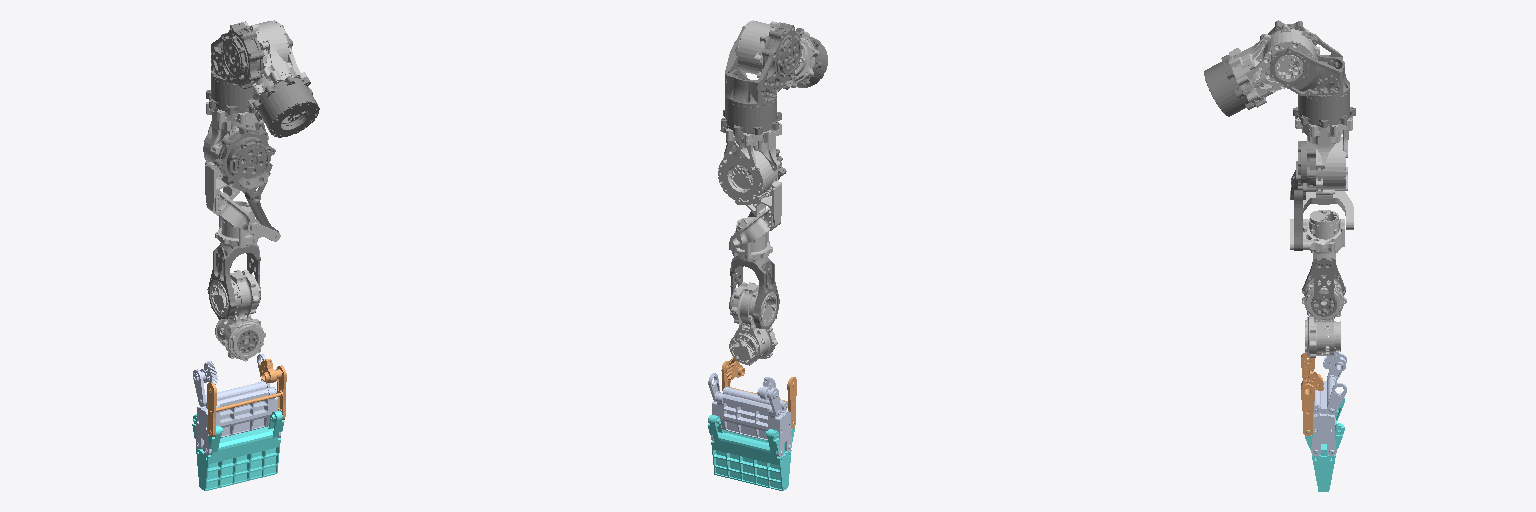
--- Facts derived from the render (not from the file) ---
Views: 3 orthographic renders of the robot side by side, from view 1: azimuth 30°, elevation 25°; view 2: azimuth 150°, elevation 25°; view 3: azimuth 270°, elevation 25°.
Robot: raipal_end-effector_L — 23 links, 22 joints (18 revolute, 4 fixed); root link world; default pose: all joints at 0.
Visible links, largest first — view 1: ee_4_left, L_shoulder, L_humerus, L_elb_input, L_carpal, L_base, ee_3_left, L_collar, L_radius, ee_2_left, L_ulna, ee_1_right (+1 smaller); view 2: L_shoulder, L_humerus, ee_4_right, L_carpal, ee_3_right, L_collar, L_radius, L_ulna, ee_2_left, ee_1_right, L_base, ee_3_left; view 3: L_shoulder, L_collar, L_humerus, L_carpal, L_ulna, L_base, L_radius, ee_2_left, L_elb_input, ee_1_right, ee_3_right, ee_3_left (+2 smaller).
Boxes of the visible links, x1=… form: ee_4_left: x1=202, y1=410, x2=284, y2=490; L_shoulder: x1=206, y1=23, x2=292, y2=114; L_humerus: x1=203, y1=102, x2=268, y2=233; L_elb_input: x1=214, y1=127, x2=275, y2=202; L_carpal: x1=211, y1=270, x2=265, y2=361; L_base: x1=252, y1=76, x2=319, y2=137; ee_3_left: x1=202, y1=387, x2=280, y2=455; L_collar: x1=241, y1=20, x2=306, y2=109; L_radius: x1=207, y1=243, x2=260, y2=319; ee_2_left: x1=207, y1=359, x2=286, y2=437; L_ulna: x1=215, y1=201, x2=280, y2=248; ee_1_right: x1=193, y1=354, x2=269, y2=406; L_shoulder: x1=721, y1=23, x2=802, y2=134; L_humerus: x1=718, y1=123, x2=781, y2=247; ee_4_right: x1=708, y1=415, x2=785, y2=490; L_carpal: x1=729, y1=282, x2=777, y2=365; ee_3_right: x1=711, y1=393, x2=785, y2=456; L_collar: x1=737, y1=20, x2=818, y2=87; L_radius: x1=729, y1=257, x2=779, y2=328; L_ulna: x1=729, y1=217, x2=772, y2=261; ee_2_left: x1=721, y1=357, x2=796, y2=428; ee_1_right: x1=708, y1=373, x2=781, y2=416; L_base: x1=782, y1=28, x2=827, y2=89; ee_3_left: x1=723, y1=387, x2=791, y2=451; L_shoulder: x1=1260, y1=20, x2=1355, y2=127; L_collar: x1=1229, y1=24, x2=1319, y2=107; L_humerus: x1=1295, y1=116, x2=1353, y2=229; L_carpal: x1=1302, y1=275, x2=1346, y2=357; L_ulna: x1=1290, y1=210, x2=1344, y2=253; L_base: x1=1204, y1=55, x2=1255, y2=116; L_radius: x1=1302, y1=253, x2=1345, y2=316; ee_2_left: x1=1301, y1=353, x2=1323, y2=435; L_elb_input: x1=1290, y1=136, x2=1315, y2=199; ee_1_right: x1=1323, y1=351, x2=1346, y2=414; ee_3_right: x1=1324, y1=376, x2=1336, y2=455; ee_3_left: x1=1311, y1=390, x2=1323, y2=455.
Size in the robot's own frame: 0.1378 by 0.2589 by 0.8421 metres.
Meshes: 19 distinct files referenced, 16 mesh visuals loaded (10 binary STL, 6 OBJ); not drawn: 3 (reference not matched to a file when rendering).

URDF robot description (raipal_end-effector_L):
<?xml version="1.0" encoding="utf-8"?>
<robot name="raipal_end-effector_L">
  <!-- [URDF-WRITER] Created with urdf-writer script (by CHH) on 2026-01-27 21:55:36.760644-->

  <!-- [URDF-WRITER] from module [_fixed-base] -->

  <!-- this link makes the robot fixed-base in RAISIM -->
  <link name="world"></link>

  <link name="base"></link>

  <joint name="base_fix" type="fixed">
    <origin xyz="0 0 0.8" rpy="0 0 0"/>
    <parent link="world" />
    <child link="base" />
    <axis xyz="0 0 0" />
  </joint>


  <!-- [URDF-WRITER] from module [raipal_L] -->

  <link name="L_base">
    <!-- CHH / 2025-09-01-20:14 -->
    <!-- mirrored from [L_base] (frame: R0_base)-->
    <inertial>
      <origin 
        xyz="-0.00013000 0.06389000 -0.05559000"
        rpy="0 0 0" />
      <mass value="0.79658000" />
      <inertia
          ixx="0.00074742"
          ixy="-1.892780e-6"
          ixz="-1.179560e-6"
          iyy="0.00098187"
          iyz="0.00013334"
          izz="0.00082394" />
    </inertial>
    <visual>
      <origin
        xyz="0 0 0"
        rpy="0 0 0" />
      <geometry>
        <mesh filename="../meshes/L_base.STL" />
      </geometry>
      <material name="">
        <color rgba=".6 .6 .6 1" />
      </material>
    </visual>
    <!--</collision>
      <origin
        xyz="0 0 0"
        rpy="0 0 0" />
      <geometry>
        <mesh filename="../meshes/L_base.STL" />
      </geometry>
    </collision>-->
  </link>

  <joint name="L_fix" type="fixed">
    <origin xyz="0 0 0" rpy="0 0 0"/>
    <parent link="base" />
    <child link="L_base" />
    <axis xyz="0 0 0" />
  </joint>

  <link name="L_collar">
    <!-- CHH / 2025-09-01-20:14 -->
    <!-- mirrored from [L_collar] (frame: R1_flexion)-->
    <inertial>
      <origin 
        xyz="0.00471000 1.000000e-5 0.10057000"
        rpy="0 0 0" />
      <mass value="1.72283000" />
      <inertia
          ixx="0.00466072"
          ixy="-5.127800e-7"
          ixz="-0.00028338"
          iyy="0.00434837"
          iyz="-8.010400e-7"
          izz="0.00167296" />
    </inertial>
    <visual>
      <origin
        xyz="0 0 0"
        rpy="0 0 0" />
      <geometry>
        <mesh filename="../meshes/L_collar.STL" />
      </geometry>
      <material name="">
        <color rgba="0.8 0.8 0.8 1" />
      </material>
    </visual>
    <!--</collision>
      <origin
        xyz="0 0 0"
        rpy="0 0 0" />
      <geometry>
        <mesh filename="../meshes/L_collar.STL" />
      </geometry>
    </collision>-->
  </link>

  <joint name="L1_flexion" type="revolute"> <!--[0]-->
    <origin
      xyz="0 0.037198 -0.0709"
      rpy="-1.0472 0 0" />
    <parent link="L_base" />
    <child link="L_collar" />
    <axis
      xyz="0 0 -1" />
    <limit
      lower="-1.57"
      upper="3.14"
      effort="181"
      velocity="13.9" />
    <dynamics rotor_inertia = "0.0576402034658611" />
    <!-- Calculated by CHH on 2025-09-01-20:14-->  
  </joint>

  <link name="L_shoulder">
    <!-- CHH / 2025-09-01-20:14 -->
    <!-- mirrored from [L_shoulder] (frame: R2_adduction)-->
    <inertial>
      <origin 
        xyz="-0.03309000 -0.04277000 0.04408000"
        rpy="0 0 0" />
      <mass value="1.92988000" />
      <inertia
          ixx="0.00554587"
          ixy="-0.00224326"
          ixz="-0.00046924"
          iyy="0.00422168"
          iyz="-0.00058524"
          izz="0.00699049" />
    </inertial>
    <visual>
      <origin
        xyz="0 0 0"
        rpy="0 0 0" />
      <geometry>
        <mesh filename="../meshes/L_shoulder.STL" />
      </geometry>
      <material name="">
        <color rgba="0.6 0.6 0.6 1" />
      </material>
    </visual>
    <!--</collision>
      <origin
        xyz="0 0 0"
        rpy="0 0 0" />
      <geometry>
        <mesh filename="../meshes/L_shoulder.STL" />
      </geometry>
    </collision>-->
  </link>

  <joint name="L2_adduction" type="revolute"> <!--[1]-->
    <origin
      xyz="0.0373 0 0.1418"
      rpy="1.5707963267949 1.0472 -1.5707963267949" />
    <parent link="L_collar" />
    <child link="L_shoulder" />
    <axis
      xyz="0 0 1" />
    <limit
      lower="-2.618"
      upper="0.488"
      effort="181"
      velocity="13.9" />
    <dynamics rotor_inertia = "0.0576402034658611" /> <!-- CHH / 2025-09-01-20:30-->
  </joint>

  <link name="L_humerus">
    <!-- CHH / 2025-09-01-20:14 -->
    <!-- mirrored from [L_humerus] (frame: R3_rotation)-->
    <inertial>
      <origin 
        xyz="-0.00369000 -0.00351000 0.11625000"
        rpy="0 0 0" />
      <mass value="1.96262000" />
      <inertia
          ixx="0.00777442"
          ixy="1.197057e-5"
          ixz="0.00065917"
          iyy="0.00822155"
          iyz="0.00015972"
          izz="0.00201683" />
    </inertial>
    <visual>
      <origin
        xyz="0 0 0"
        rpy="0 0 0" />
      <geometry>
        <mesh filename="../meshes/L_humerus.STL" />
      </geometry>
      <material name="">
        <color rgba="0.8 0.8 0.8 1" />
      </material>
    </visual>
    <!--</collision>
      <origin
        xyz="0 0 0"
        rpy="0 0 0" />
      <geometry>
        <mesh filename="../meshes/L_humerus.STL" />
      </geometry>
    </collision>-->
  </link>

  <joint name="L3_rotation" type="revolute"> <!--[2]-->
    <origin
      xyz="-0.06 -0.06025 0.0373"
      rpy="1.5707963267949 1.5707963267949 0" />
    <parent link="L_shoulder" />
    <child link="L_humerus" />
    <axis
      xyz="0 0 1" />
    <limit
      lower="-3.14"
      upper="3.14"
      effort="181"
      velocity="13.9" />
    <dynamics rotor_inertia = "0.0576402034658611" /> <!-- CHH / 2025-09-01-20:30-->
  </joint>

  <link name="L_elb_input">
    <!-- CHH / 2025-09-01-20:14 -->
    <!-- mirrored from [L_elb_input] (frame: R4a_elbow_power)-->
    <inertial>
      <origin 
        xyz="-2.000000e-5 -0.00335000 0.05897000"
        rpy="0 0 0" />
      <mass value="0.83412000" />
      <inertia
          ixx="0.00071114"
          ixy="-7.660000e-7"
          ixz="-9.255500e-7"
          iyy="0.00059983"
          iyz="5.504818e-5"
          izz="0.00080767" />
    </inertial>
    <visual>
      <origin
        xyz="0 0 0"
        rpy="0 0 0" />
      <geometry>
        <mesh filename="../meshes/L_elb_input.STL" />
      </geometry>
      <material name="">
        <color rgba="0.6 0.6 0.6 1" />
      </material>
    </visual>
    <!--</collision>
      <origin
        xyz="0 0 0"
        rpy="0 0 0" />
      <geometry>
        <mesh filename="../meshes/L_elb_input.STL" />
      </geometry>
    </collision>-->
  </link>

  <joint name="L4a_elbow_power" type="revolute"> <!--[3]-->
    <origin
      xyz="0 -0.0373 0.1418"
      rpy="-1.5707963267949 0 0" />
    <parent link="L_humerus" />
    <child link="L_elb_input" />
    <axis
      xyz="0 0 -1" />
    <limit
      lower="0"
      upper="1.556"
      effort="181"
      velocity="13.9" />
    <dynamics rotor_inertia = "0.0576402034658611" /> <!-- CHH / 2025-09-01-20:30-->
  </joint>

  <link name="L_elb_bar">
    <!-- CHH / 2025-09-01-20:14 -->
    <!-- mirrored from [L_elb_bar] (frame: R4b_elbow_bar_input)-->
    <inertial>
      <origin 
        xyz="0.04274000 -0.00159000 -4.000000e-5"
        rpy="0 0 0" />
      <mass value="0.05314000" />
      <inertia
          ixx="2.335610e-6"
          ixy="0.0"
          ixz="0.0"
          iyy="6.149582e-5"
          iyz="3.110000e-9"
          izz="6.199993e-5" />
    </inertial>
    <visual>
      <origin
        xyz="0 0 0"
        rpy="0 0 0" />
      <geometry>
        <mesh filename="../meshes/L_elb_bar.STL" />
      </geometry>
      <material name="">
        <color rgba="0.5 0.5 0.5 1" />
      </material>
    </visual>
    <!--</collision>
      <origin
        xyz="0 0 0"
        rpy="0 0 0" />
      <geometry>
        <mesh filename="../meshes/L_elb_bar.STL" />
      </geometry>
    </collision>-->
  </link>

  <joint name="L4b_elbow_bar_input" type="revolute">  <!--[4-unpowered]-->
    <origin
      xyz="0.00134978286029327 -0.0599848154638326 0.0812119041053838"
      rpy="0 0 -1.12941902735751" />
    <parent link="L_elb_input" />
    <child link="L_elb_bar" />
    <axis
      xyz="0 0 1" />
    <limit
      lower="0"
      upper="1.802"
      effort="0"
      velocity="100" />
  </joint>

  <link name="L_ulna">
    <!-- CHH / 2025-09-01-20:14 -->
    <!-- mirrored from [L_ulna] (frame: R4_elbow)-->
    <inertial>
      <origin 
        xyz="0.00533000 -0.01576000 -0.03891000"
        rpy="0 0 0" />
      <mass value="0.36947000" />
      <inertia
          ixx="0.00032310"
          ixy="1.385696e-5"
          ixz="-4.244104e-5"
          iyy="0.00036383"
          iyz="5.919040e-6"
          izz="0.00020708" />
    </inertial>
    <visual>
      <origin
        xyz="0 0 0"
        rpy="0 0 0" />
      <geometry>
        <mesh filename="../meshes/L_ulna.STL" />
      </geometry>
      <material name="">
        <color rgba="0.8 0.8 0.8 1" />
      </material>
    </visual>
    <!--</collision>
      <origin
        xyz="0 0 0"
        rpy="0 0 0" />
      <geometry>
        <mesh filename="../meshes/L_ulna.STL" />
      </geometry>
    </collision>-->
  </link>

  <joint name="L4_elbow" type="revolute">  <!--[5-unpowered]-->
    <origin
      xyz="0 0.043912 0.25475"
      rpy="-1.5707963267949 0 0" />
    <parent link="L_humerus" />
    <child link="L_ulna" />
    <axis
      xyz="0 0 1" />
    <limit
      lower="0"
      upper="2.2689"
      effort="0"
      velocity="100" />
  </joint>

  <link name="L_radius">
    <!-- CHH / 2025-09-01-20:14 -->
    <!-- link name: [L_radius]-->
    <!-- frame: [L5_roll]-->
    <inertial>
      <origin 
        xyz="0.00151000 0.0 0.10290000"
        rpy="0 0 0" />
      <mass value="0.42307000" />
      <inertia
          ixx="0.00112662"
          ixy="1.975000e-8"
          ixz="-5.589578e-5"
          iyy="0.00120471"
          iyz="-1.556000e-8"
          izz="0.00024138" />
    </inertial>
    <visual>
      <origin
        xyz="0 0 0"
        rpy="0 0 0" />
      <geometry>
        <mesh filename="../meshes/L_radius.STL" />
      </geometry>
      <material name="">
        <color rgba="0.6 0.6 0.6 1" />
      </material>
    </visual>
    <!--<collision>
      <origin
        xyz="0 0 0"
        rpy="0 0 0" />
      <geometry>
        <mesh filename="../meshes/L_radius.STL" />
      </geometry>
    </collision>-->
  </link>

  <joint name="L5_roll" type="revolute"> <!--[6]-->
    <origin
      xyz="0 0.0135819531869474 -0.0439119041053754"
      rpy="1.5707963267949 0 0" />
    <parent link="L_ulna" />
    <child link="L_radius" />
    <axis
      xyz="0 0 1" />
    <limit
      lower="-1.57"
      upper="1.57"
      effort="12.61"
      velocity="53.8" />
    <dynamics rotor_inertia = "0.000540543349430043" /> <!-- CHH / 2025-09-01-20:30-->
  </joint>

  <link name="L_carpal">
    <!-- CHH / 2025-09-01-20:14 -->
    <!-- link name: [L_carpal]-->
    <!-- frame: [L6_pitch]-->
    <inertial>
      <origin 
        xyz="-0.00117000 -0.03421000 0.02964000"
        rpy="0 0 0" />
      <mass value="0.67981000" />
      <inertia
          ixx="0.00128813"
          ixy="-3.134577e-5"
          ixz="3.268690e-6"
          iyy="0.00040998"
          iyz="9.323146e-5"
          izz="0.00126953" />
    </inertial>
    <visual>
      <origin
        xyz="0 0 0"
        rpy="0 0 0" />
      <geometry>
        <mesh filename="../meshes/L_carpal.STL" />
      </geometry>
      <material name="">
        <color rgba="0.8 0.8 0.8 1" />
      </material>
    </visual>
    <!--<collision>
      <origin
        xyz="0 0 0"
        rpy="0 0 0" />
      <geometry>
        <mesh filename="../meshes/L_carpal.STL" />
      </geometry>
    </collision>-->
  </link>

  <joint name="L6_pitch" type="revolute"> <!--[7]-->
    <origin
      xyz="-0.0337 0 0.153581953186935"
      rpy="-1.5707963267949 0 -1.5707963267949" />
    <parent link="L_radius" />
    <child link="L_carpal" />
    <axis
      xyz="0 0 -1" />
    <limit
      lower="-2.0944"
      upper="2.0944"
      effort="12.61"
      velocity="53.8" />
    <dynamics rotor_inertia = "0.000540543349430043" /> <!-- CHH / 2025-09-01-20:30-->
  </joint>

  <link name="L_ee">
    <!-- CHH / 2025-09-01-20:14 -->
    <!-- link name: [L_ee]-->
    <!-- frame: [L7_yaw]-->
    <inertial>
      <origin 
        xyz="0.0 0.0 0.04531000"
        rpy="0 0 0" />
      <mass value="0.13143000" />
      <inertia
          ixx="3.339173e-5"
          ixy="0.0"
          ixz="0.0"
          iyy="3.339173e-5"
          iyz="0.0"
          izz="4.133016e-5" />
    </inertial>
    <visual>
      <origin
        xyz="0 0 0"
        rpy="0 0 0" />
      <geometry>
        <mesh filename="../meshes/L_ee.STL" />
      </geometry>
      <material name="">
        <color rgba="0.6 0.6 0.6 1" />
      </material>
    </visual>
    <!--<collision>
      <origin
        xyz="0 0 0"
        rpy="0 0 0" />
      <geometry>
        <mesh filename="../meshes/L_ee.STL" />
      </geometry>
    </collision>-->
  </link>

  <joint name="L7_yaw" type="revolute"> <!--[8]-->
    <origin
      xyz="0.0264 -0.073 0.0337"
      rpy="0 -1.5707963267949 0" />
    <parent link="L_carpal" />
    <child link="L_ee" />
    <axis
      xyz="0 0 1" />
    <limit
      lower="-1.57079"
      upper="1.57079"
      effort="12.61"
      velocity="53.8" />
    <dynamics rotor_inertia = "0.000540543349430043" /> <!-- CHH / 2025-09-01-20:30-->
  </joint>

  <!-- imaginary links for loop closure -->
  <link name="L_loop_barside"></link>

  <joint name="L4cA_elbow_loop_bar" type="fixed">
    <origin
      xyz="0.0854747786370337 0 0"
      rpy="0 0 0" />
    <parent link="L_elb_bar" />
    <child link="L_loop_barside" />
    <axis
      xyz="0 0 -1" />
    <limit
      lower="-3.14"
      upper="3.14"
      effort="0"
      velocity="100" />
  </joint>

  <link name="L_loop_ulnaside"></link>

  <joint name="L4cB_elbow_loop_ulna_fixed" type="fixed">
    <origin
      xyz="0.0378633410992504 -0.0243180468130526 0"
      rpy="0 0 -1.12941902735751" />
    <parent link="L_ulna" />
    <child link="L_loop_ulnaside" />
    <axis
      xyz="0 0 0" />
  </joint>

  

  <!-- [URDF-WRITER] from module [end-effector] -->
<!-- <?xml version="1.0" encoding="utf-8"?>
<robot
  name="end-effector"> -->
  
  <link
    name="ee_base">
    <inertial>
      <origin
        xyz="0.0031143 0.052786 -0.00014093"
        rpy="0 0 0" />
      <mass
        value="0.47995" />
      <inertia
        ixx="0.00021459"
        ixy="5.8129E-08"
        ixz="-2.6069E-06"
        iyy="0.00022177"
        iyz="-7.1594E-08"
        izz="0.00029412" />
    </inertial>
    <visual>
      <origin
        xyz="0 0 0"
        rpy="0 0 0" />
      <geometry>
        <mesh
          filename="../meshes/ee_base.obj" />
      </geometry>
      <material
        name="">
        <color
          rgba="0.75294 0.75294 0.75294 1" />
      </material>
    </visual>
    <!-- <collision>
      <origin
        xyz="0 0 0"
        rpy="0 0 0" />
      <geometry>
        <mesh
          filename="../meshes/ee_base.obj" />
      </geometry>
    </collision> -->
  </link>
  <joint
    name="ee_base"
    type="revolute">
    <origin
      xyz="0 0 0.027"
      rpy="3.14159265359 1.5707963267949 0" />
    <parent
      link="L_ee" />
    <child
      link="ee_base" />
    <axis
      xyz="1 0 0" />
    <limit
      lower="-0.96"
      upper="0"
      effort="1000"
      velocity="100" />
  </joint>
  <link
    name="ee_1_left">
    <inertial>
      <origin
        xyz="0.0064038 0.0017006 0.03237"
        rpy="0 0 0" />
      <mass
        value="0.089043" />
      <inertia
        ixx="1.1126E-05"
        ixy="-4.0581E-07"
        ixz="7.3104E-08"
        iyy="5.1752E-06"
        iyz="-4.3865E-07"
        izz="1.4572E-05" />
    </inertial>
    <visual>
      <origin
        xyz="0 0 0"
        rpy="0 0 0" />
      <geometry>
        <mesh
          filename="../meshes/ee_1_left.obj" />
      </geometry>
      <material
        name="">
        <color
          rgba="1 1 0.50196 1" />
      </material>
    </visual>
    <!-- <collision>
      <origin
        xyz="0 0 0"
        rpy="0 0 0" />
      <geometry>
        <mesh
          filename="../meshes/ee_1_left.obj" />
      </geometry>
    </collision> -->
  </link>
  <joint
    name="ee_01_left"
    type="revolute">
    <origin
      xyz="-0.027 0.073 0.0027"
      rpy="0 0 -0.349065850398886" />
    <parent
      link="ee_base" />
    <child
      link="ee_1_left" />
    <axis
      xyz="0 0 -1" />
    <limit
      lower="-0.96"
      upper="0.132"
      effort="1000"
      velocity="100" />
  </joint>
  <link
    name="ee_3_left">
    <inertial>
      <origin
        xyz="0.0046645 0.027951 -0.0025989"
        rpy="0 0 0" />
      <mass
        value="0.13742" />
      <inertia
        ixx="0.00014329"
        ixy="-1.4814E-06"
        ixz="1.873E-10"
        iyy="8.8896E-05"
        iyz="-3.0546E-10"
        izz="5.8605E-05" />
    </inertial>
    <visual>
      <origin
        xyz="0 0 0"
        rpy="0 0 0" />
      <geometry>
        <mesh
          filename="../meshes/ee_3_left.obj" />
      </geometry>
      <material
        name="">
        <color
          rgba="0.86667 0.9098 1 1" />
      </material>
    </visual>
    <!-- <collision>
      <origin
        xyz="0 0 0"
        rpy="0 0 0" />
      <geometry>
        <mesh
          filename="../meshes/ee_3_left.obj" />
      </geometry>
    </collision> -->
    <collision>
      <origin
        xyz="0.01091 0.030 0"
        rpy="0 0 0" />
      <geometry>
        <box size="0.00482 0.060 0.1352" />
      </geometry>
    </collision>
  </link>
  <joint
    name="ee_13_left"
    type="revolute">
    <origin
      xyz="0 0.04 0"
      rpy="0 0 0.349065850398886" />
    <parent
      link="ee_1_left" />
    <child
      link="ee_3_left" />
    <axis
      xyz="0 0 -1" />
    <limit
      lower="-0.743"
      upper="0.349"
      effort="1000"
      velocity="100" />
  </joint>
  <link
    name="ee_4_left">
    <inertial>
      <origin
        xyz="0.0023113 0.015398 -0.0026"
        rpy="0 0 0" />
      <mass
        value="0.1713" />
      <inertia
        ixx="0.00022938"
        ixy="-9.5762E-06"
        ixz="-8.5711E-12"
        iyy="0.00015679"
        iyz="3.9003E-11"
        izz="8.2461E-05" />
    </inertial>
    <visual>
      <origin
        xyz="0 0 0"
        rpy="0 0 0" />
      <geometry>
        <mesh
          filename="../meshes/ee_4_left.obj" />
      </geometry>
      <material
        name="">
        <color
          rgba="0.50196 1 1 1" />
      </material>
    </visual>
    <!-- <collision>
      <origin
        xyz="0 0 0"
        rpy="0 0 0" />
      <geometry>
        <mesh
          filename="../meshes/ee_4_left.obj" />
      </geometry>
    </collision> -->
    <collision>
      <origin
        xyz="0.01091 0.0375 0"
        rpy="0 0 0" />
      <geometry>
        <box size="0.00482 0.075 0.1352" />
      </geometry>
    </collision>
  </link>
  <joint
    name="ee_34_left"
    type="revolute">
    <origin
      xyz="0 0.0750000000000006 0"
      rpy="0 0 0" />
    <parent
      link="ee_3_left" />
    <child
      link="ee_4_left" />
    <axis
      xyz="0 0 -1" />
    <limit
      lower="0"
      upper="1.092"
      effort="1000"
      velocity="100" />
  </joint>
  <link
    name="ee_2_left">
    <inertial>
      <origin
        xyz="0.0060086 0.0092945 -0.027809"
        rpy="0 0 0" />
      <mass
        value="0.08305" />
      <inertia
        ixx="3.6706E-05"
        ixy="-8.9708E-07"
        ixz="-1.2542E-07"
        iyy="1.0204E-05"
        iyz="2.6641E-06"
        izz="3.3169E-05" />
    </inertial>
    <visual>
      <origin
        xyz="0 0 0"
        rpy="0 0 0" />
      <geometry>
        <mesh
          filename="../meshes/ee_2_left.obj" />
      </geometry>
      <material
        name="">
        <color
          rgba="0.98824 0.73725 0.51373 1" />
      </material>
    </visual>
    <!-- <collision>
      <origin
        xyz="0 0 0"
        rpy="0 0 0" />
      <geometry>
        <mesh
          filename="../meshes/ee_2_left.obj" />
      </geometry>
    </collision> -->
  </link>
  <joint
    name="ee_02_left"
    type="revolute">
    <origin
      xyz="-0.027 0.073 0.0027"
      rpy="0 0 0" />
    <parent
      link="ee_base" />
    <child
      link="ee_2_left" />
    <axis
      xyz="0 0 -1" />
    <limit
      lower="-0.96"
      upper="0"
      effort="1000"
      velocity="100" />
  </joint>
  <link
    name="ee_1_right">
    <inertial>
      <origin
        xyz="-0.008874981915812 0.00231330523702416 0.0326073428095282"
        rpy="0 0 0" />
      <mass
        value="0.0651510410800335" />
      <inertia
        ixx="1.02026333063797E-05"
        ixy="3.93229044674092E-07"
        ixz="-1.36302717401083E-07"
        iyy="4.01204114694138E-06"
        iyz="-8.61111517357807E-07"
        izz="1.10104719419456E-05" />
    </inertial>
    <visual>
      <origin
        xyz="0 0 0"
        rpy="0 0 0" />
      <geometry>
        <mesh
          filename="../meshes/ee_1_right.obj" />
      </geometry>
      <material
        name="">
        <color
          rgba="0.866666666666667 0.909803921568627 1 1" />
      </material>
    </visual>
    <!-- <collision>
      <origin
        xyz="0 0 0"
        rpy="0 0 0" />
      <geometry>
        <mesh
          filename="../meshes/ee_1_right.obj" />
      </geometry>
    </collision> -->
  </link>
  <joint
    name="ee_01_right"
    type="revolute">
    <origin
      xyz="0.027 0.073 0.0027"
      rpy="0 0 0.349065850398886" />
    <parent
      link="ee_base" />
    <child
      link="ee_1_right" />
    <axis
      xyz="0 0 -1" />
    <limit
      lower="-0.132"
      upper="0.96"
      effort="1000"
      velocity="100" />
  </joint>
  <link
    name="ee_3_right">
    <inertial>
      <origin
        xyz="-0.0046642 0.027951 -0.0025989"
        rpy="0 0 0" />
      <mass
        value="0.13742" />
      <inertia
        ixx="0.00014329"
        ixy="1.4805E-06"
        ixz="-1.8767E-10"
        iyy="8.8896E-05"
        iyz="-3.0115E-10"
        izz="5.8603E-05" />
    </inertial>
    <visual>
      <origin
        xyz="0 0 0"
        rpy="0 0 0" />
      <geometry>
        <mesh
          filename="../meshes/ee_3_right.obj" />
      </geometry>
      <material
        name="">
        <color
          rgba="0.86667 0.9098 1 1" />
      </material>
    </visual>
    <!-- <collision>
      <origin
        xyz="0 0 0"
        rpy="0 0 0" />
      <geometry>
        <mesh
          filename="../meshes/ee_3_right.obj" />
      </geometry>
    </collision> -->
    <collision>
      <origin
        xyz="-0.01091 0.030 0"
        rpy="0 0 0" />
      <geometry>
        <box size="0.00482 0.060 0.1352" />
      </geometry>
    </collision>
  </link>
  <joint
    name="ee_13_right"
    type="revolute">
    <origin
      xyz="0 0.04 0"
      rpy="0 0 -0.349065850398886" />
    <parent
      link="ee_1_right" />
    <child
      link="ee_3_right" />
    <axis
      xyz="0 0 -1" />
    <limit
      lower="-0.349"
      upper="0.743"
      effort="1000"
      velocity="10" />
  </joint>
  <link
    name="ee_4_right">
    <inertial>
      <origin
        xyz="-0.0023113 0.015398 -0.0026"
        rpy="0 0 0" />
      <mass
        value="0.1713" />
      <inertia
        ixx="0.00022938"
        ixy="9.5762E-06"
        ixz="-8.5711E-12"
        iyy="0.00015679"
        iyz="-3.9003E-11"
        izz="8.2461E-05" />
    </inertial>
    <visual>
      <origin
        xyz="0 0 0"
        rpy="0 0 0" />
      <geometry>
        <mesh
          filename="../meshes/ee_4_right.obj" />
      </geometry>
      <material
        name="">
        <color
          rgba="0.50196 1 1 1" />
      </material>
    </visual>
    <!-- <collision>
      <origin
        xyz="0 0 0"
        rpy="0 0 0" />
      <geometry>
        <mesh
          filename="../meshes/ee_4_right.obj" />
      </geometry>
    </collision> -->
    <collision>
      <origin
        xyz="-0.01091 0.0375 0"
        rpy="0 0 0" />
      <geometry>
        <box size="0.00482 0.075 0.1352" />
      </geometry>
    </collision>
  </link>
  <joint
    name="ee_34_right"
    type="revolute">
    <origin
      xyz="0 0.0750000000000006 0"
      rpy="0 0 0" />
    <parent
      link="ee_3_right" />
    <child
      link="ee_4_right" />
    <axis
      xyz="0 0 -1" />
    <limit
      lower="-1.092"
      upper="0"
      effort="1000"
      velocity="100" />
  </joint>
  <link
    name="ee_2_right">
    <inertial>
      <origin
        xyz="-0.0045282 0.0072645 -0.029821"
        rpy="0 0 0" />
      <mass
        value="0.1065" />
      <inertia
        ixx="3.6229E-05"
        ixy="8.9471E-07"
        ixz="6.9034E-08"
        iyy="1.0858E-05"
        iyz="1.4122E-06"
        izz="3.5839E-05" />
    </inertial>
    <visual>
      <origin
        xyz="0 0 0"
        rpy="0 0 0" />
      <geometry>
        <mesh
          filename="../meshes/ee_2_right.obj" />
      </geometry>
      <material
        name="">
        <color
          rgba="1 1 0.50196 1" />
      </material>
    </visual>
    <!-- <collision>
      <origin
        xyz="0 0 0"
        rpy="0 0 0" />
      <geometry>
        <mesh
          filename="../meshes/ee_2_right.obj" />
      </geometry>
    </collision> -->
  </link>
  <joint
    name="ee_02_right"
    type="revolute">
    <origin
      xyz="0.027 0.073 0.0027"
      rpy="0 0 0" />
    <parent
      link="ee_base" />
    <child
      link="ee_2_right" />
    <axis
      xyz="0 0 -1" />
    <limit
      lower="0"
      upper="0.96"
      effort="1000"
      velocity="100" />
  </joint>

  

<!-- </robot> -->
  <!-- [URDF-WRITER] merged constraints -->
  <constraints nominal_config="0 0 0 0 0 0 0 0 0 0 0 0 0 0 0 0 0 0 0 0 0 0.0, 0.0, 0.0, 1.0, 0.0, 0.0, 0.0, 0.0, 0.0, 0.0, 0.0, 0.0, 0.0, 0.0, 0.0">
    <pin body1="L_loop_barside" body2="L_loop_ulnaside" anchor="0.0 0.0 0.0"/>
    <pin body1="ee_2_left" body2="ee_4_left" anchor="0.0 0.075 0.0"/>
    <pin body1="ee_2_right" body2="ee_4_right" anchor="0.0 0.075 0.0"/>
  </constraints>

</robot>
